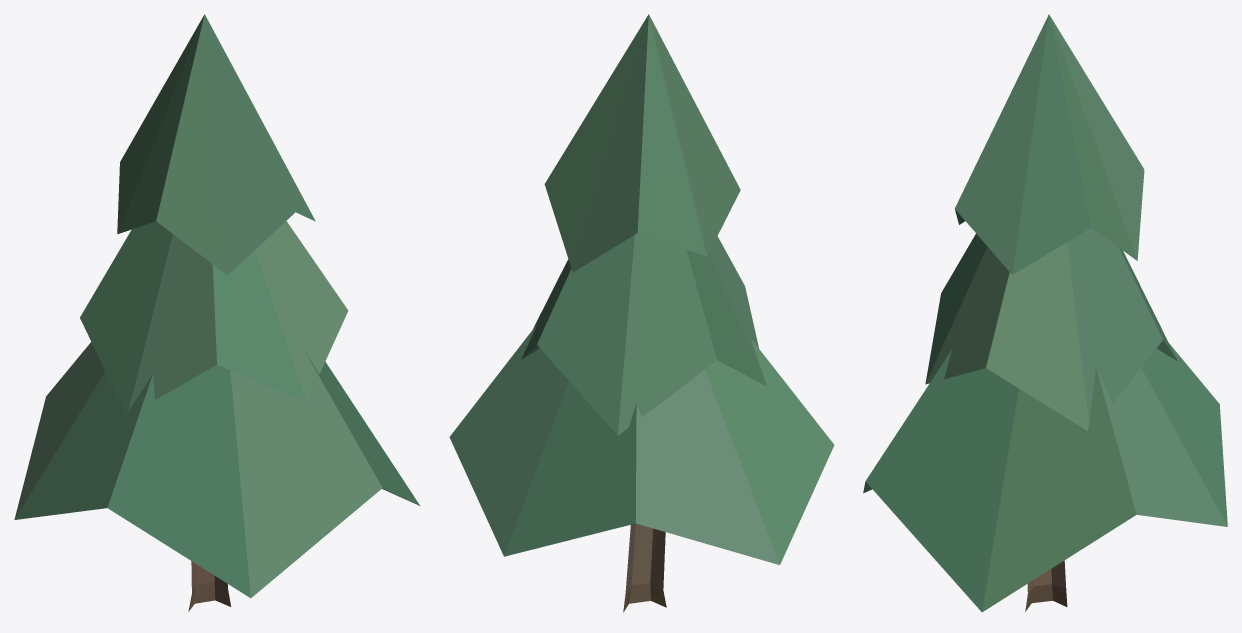
File: Tree_Pine_04.glb
3 renders of one model, left to right at view 1: azimuth 30°, elevation 25°; view 2: azimuth 150°, elevation 25°; view 3: azimuth 270°, elevation 25°, orthographic.
Visible parts, largest first — view 1: Tree_Pine_04; view 2: Tree_Pine_04; view 3: Tree_Pine_04.
Part boxes in pixels (x1,y1,x2,y2): Tree_Pine_04: (14,14,419,611); Tree_Pine_04: (449,14,834,612); Tree_Pine_04: (863,14,1227,612).
Bounding box in the file's own units: 5.74 × 9.54 × 5.31.
